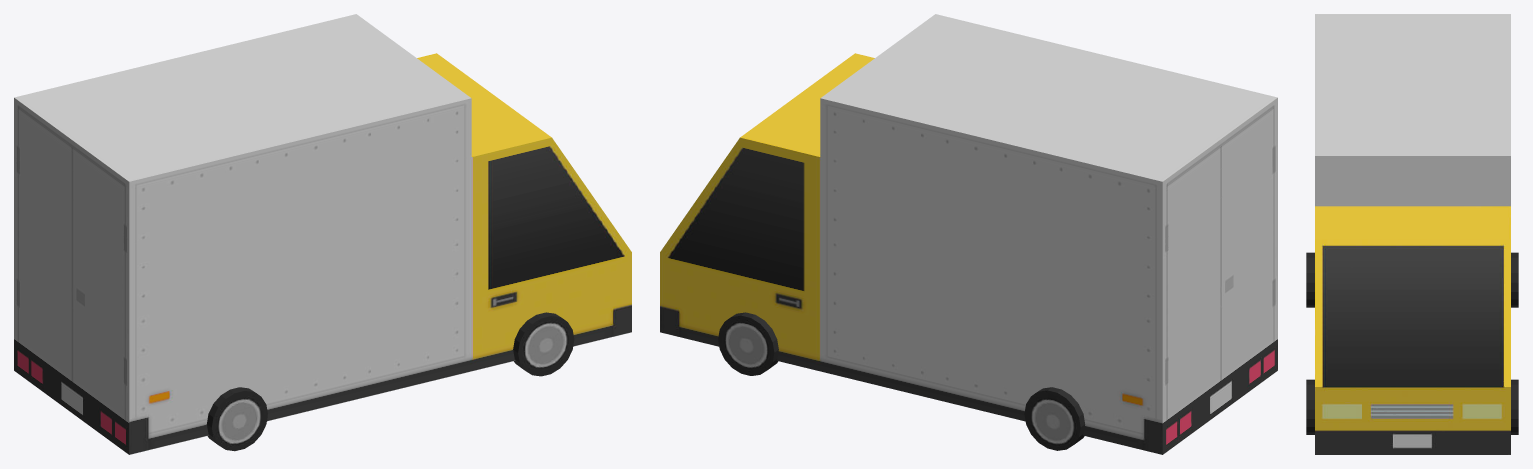
The picture shows the model from 3 angles, left to right: view 1: azimuth 30°, elevation 25°; view 2: azimuth 150°, elevation 25°; view 3: azimuth 270°, elevation 25°; orthographic projection. The views are drawn at different scales.
Visible parts, largest first — view 1: Car_08; view 2: Car_08; view 3: Car_08.
Part boxes in pixels (box(x1,y1,x2,y2)): Car_08: box(14, 14, 631, 454); Car_08: box(660, 14, 1277, 454); Car_08: box(1306, 14, 1518, 454).
Bounding box in the file's own units: 121 × 66.63 × 51.85.
1 material, 1 textured.
